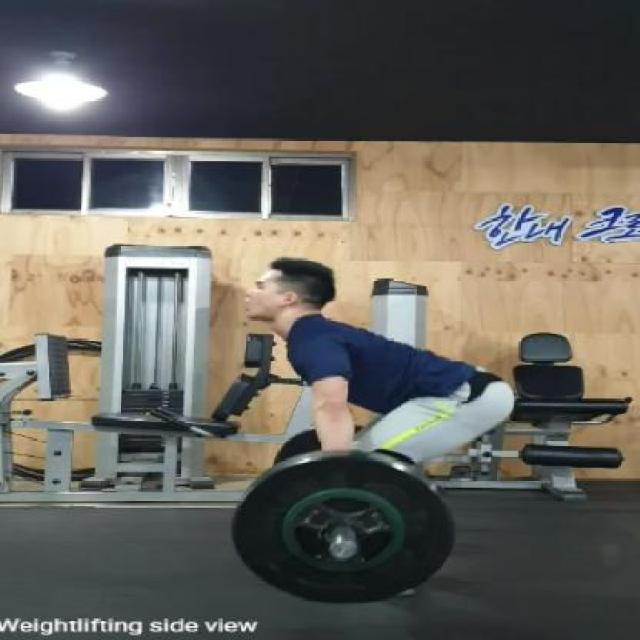barbell: (217, 447, 471, 606)
